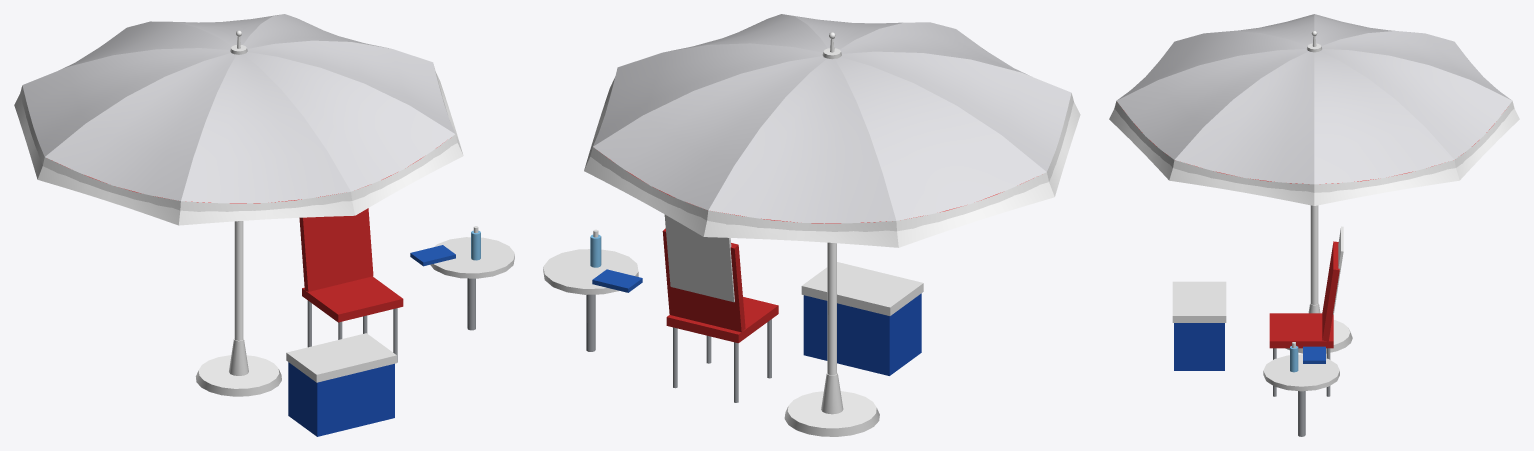
The model's file is DescansoRojo.obj.
3 views of the same model, side by side, from view 1: azimuth 30°, elevation 25°; view 2: azimuth 150°, elevation 25°; view 3: azimuth 270°, elevation 25° (orthographic). The views are drawn at different scales.
Visible parts, largest first — view 1: DescansoRojo; view 2: DescansoRojo; view 3: DescansoRojo.
Part boxes in pixels (x1=…): DescansoRojo: x1=14, y1=14, x2=514, y2=436; DescansoRojo: x1=543, y1=14, x2=1080, y2=436; DescansoRojo: x1=1109, y1=14, x2=1519, y2=436.
Bounding box in the file's own units: 3.71 × 2.65 × 3.22.
Materials: 1 (1 with a texture image).
